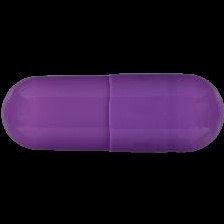61786-537: (0, 0, 224, 224)
